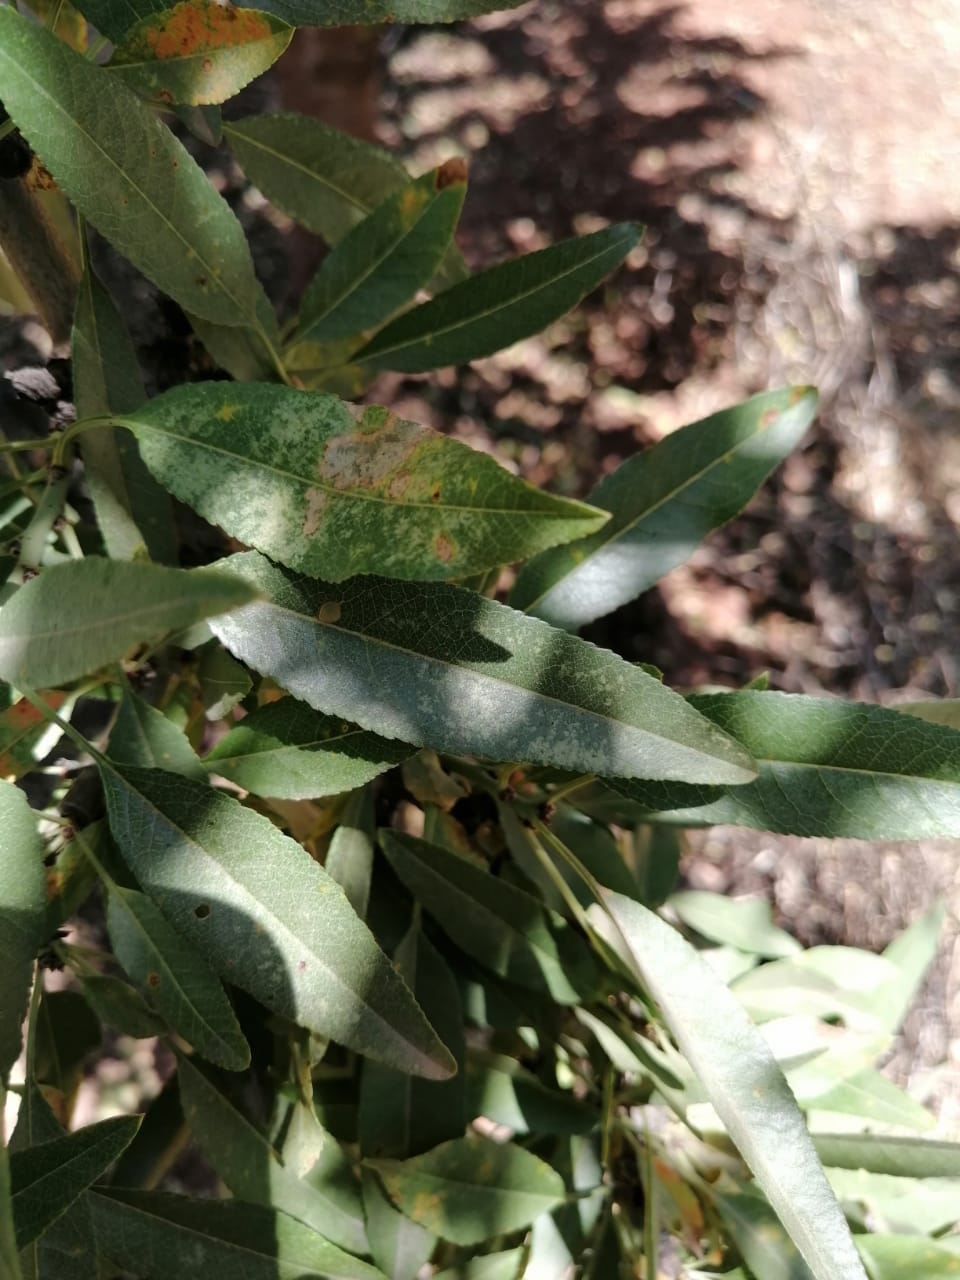faux tigre: (194, 550, 765, 785), (125, 381, 607, 583)
